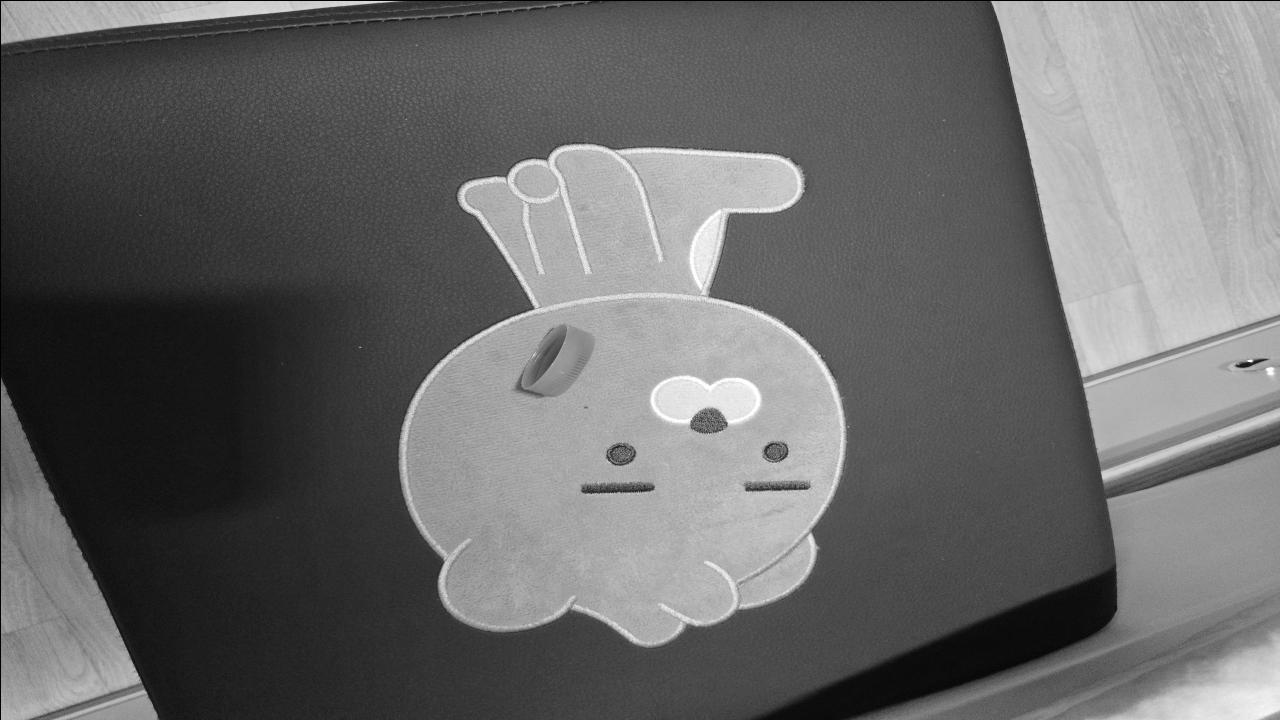bottle_cap: (516, 316, 598, 398)
